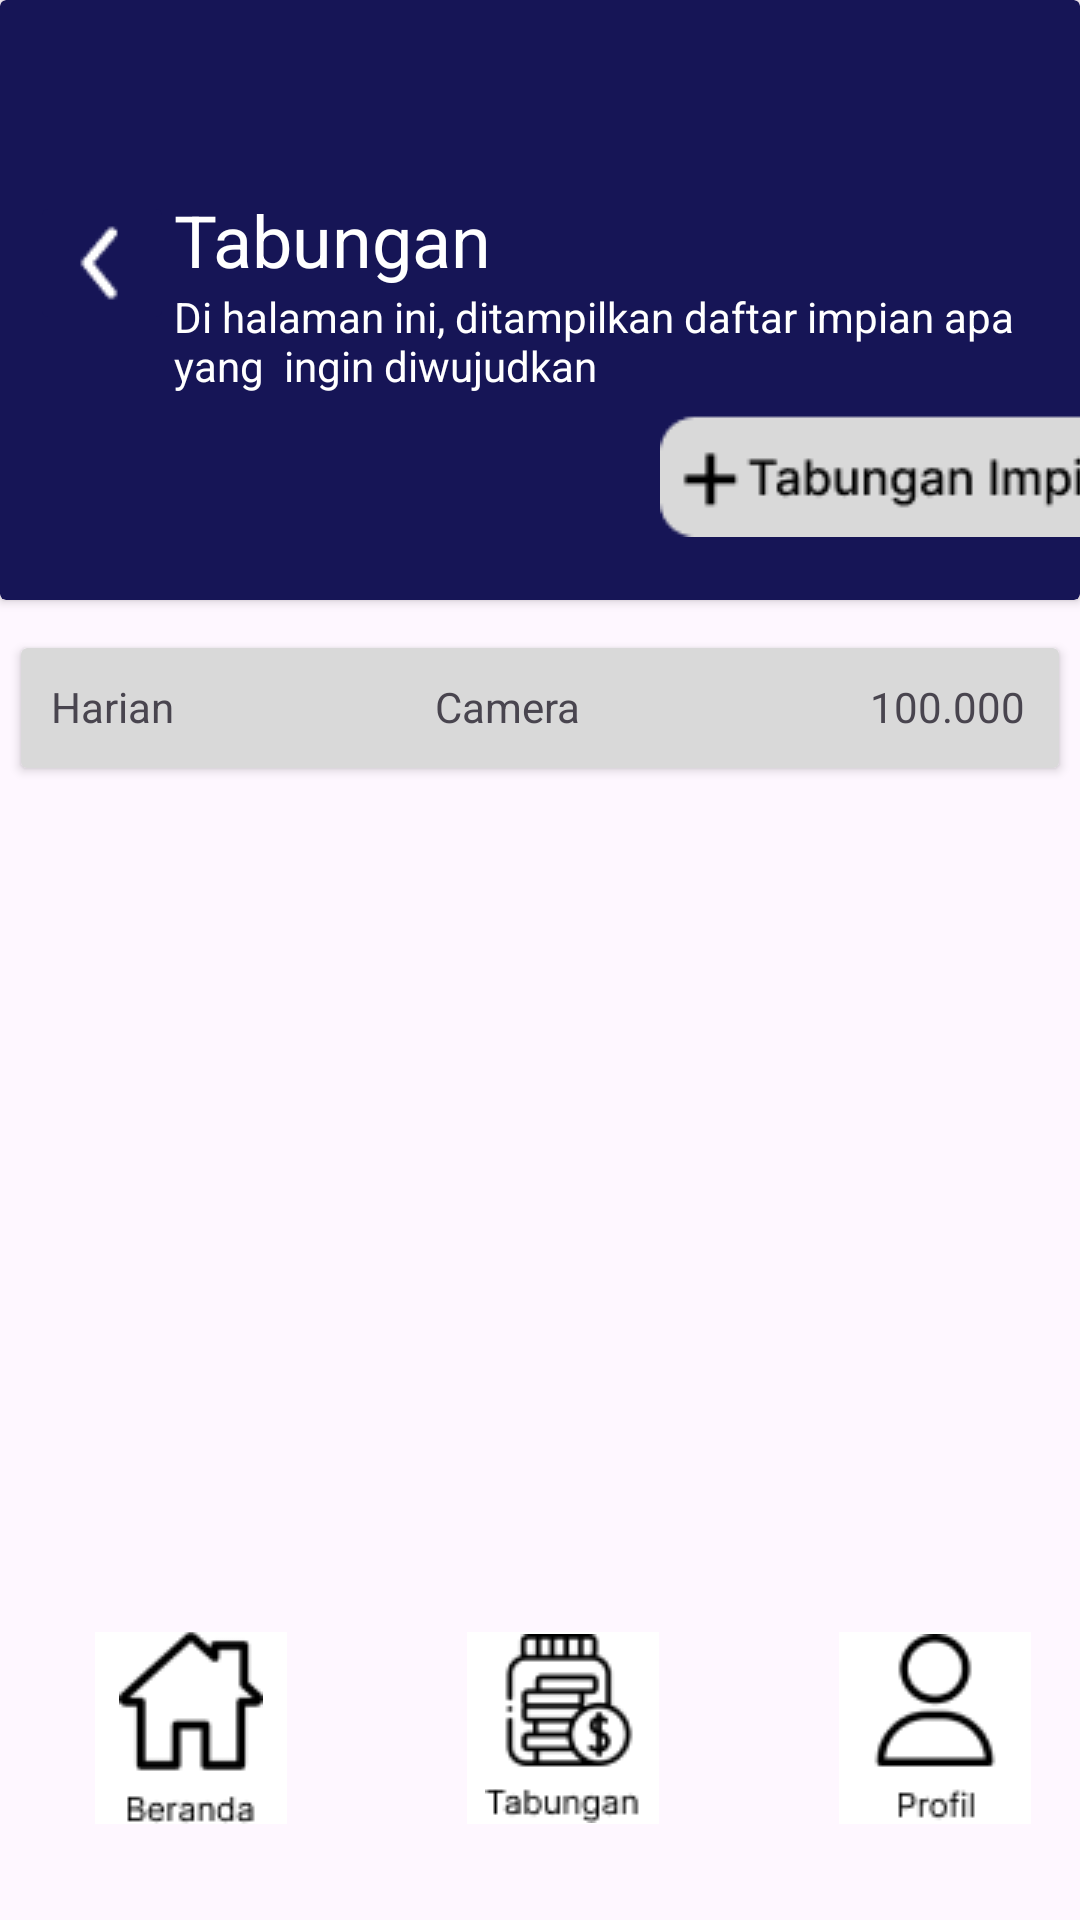

Screen size 1080x1920. Icon name, then its center in pixels as (x,y):
back: (99,263)
